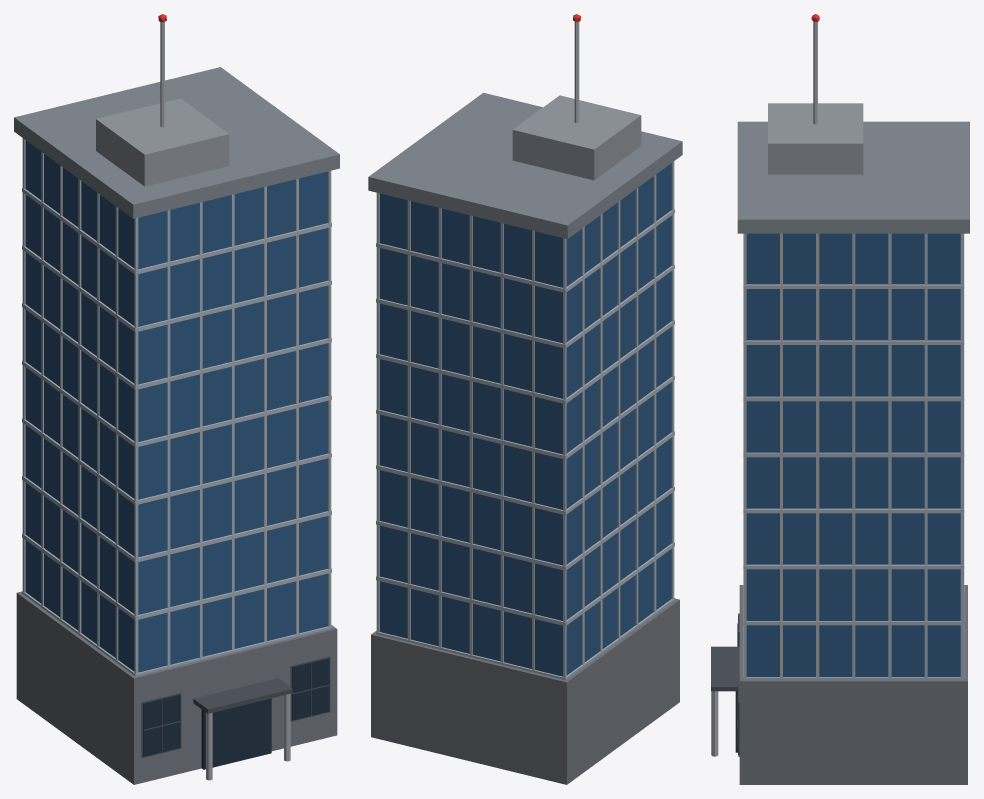
Rendered from tower.glb.
3 views of the same model, side by side, from view 1: azimuth 30°, elevation 25°; view 2: azimuth 150°, elevation 25°; view 3: azimuth 270°, elevation 25° (orthographic). The views are drawn at different scales.
Parts seen in each view (by area): view 1: gh_tower; view 2: gh_tower; view 3: gh_tower.
Part boxes in pixels (<box>): gh_tower: <box>14,14,339,784</box>; gh_tower: <box>368,14,682,784</box>; gh_tower: <box>711,14,969,784</box>.
Bounding box in the file's own units: 12.2 × 40.95 × 13.6.
